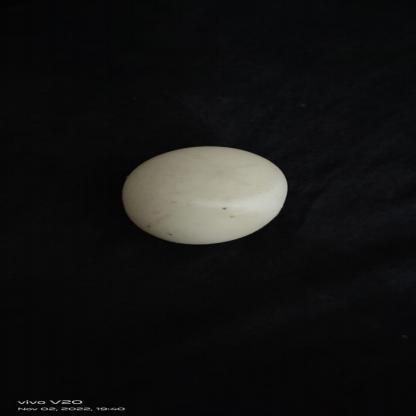egg: (119, 144, 288, 246)
